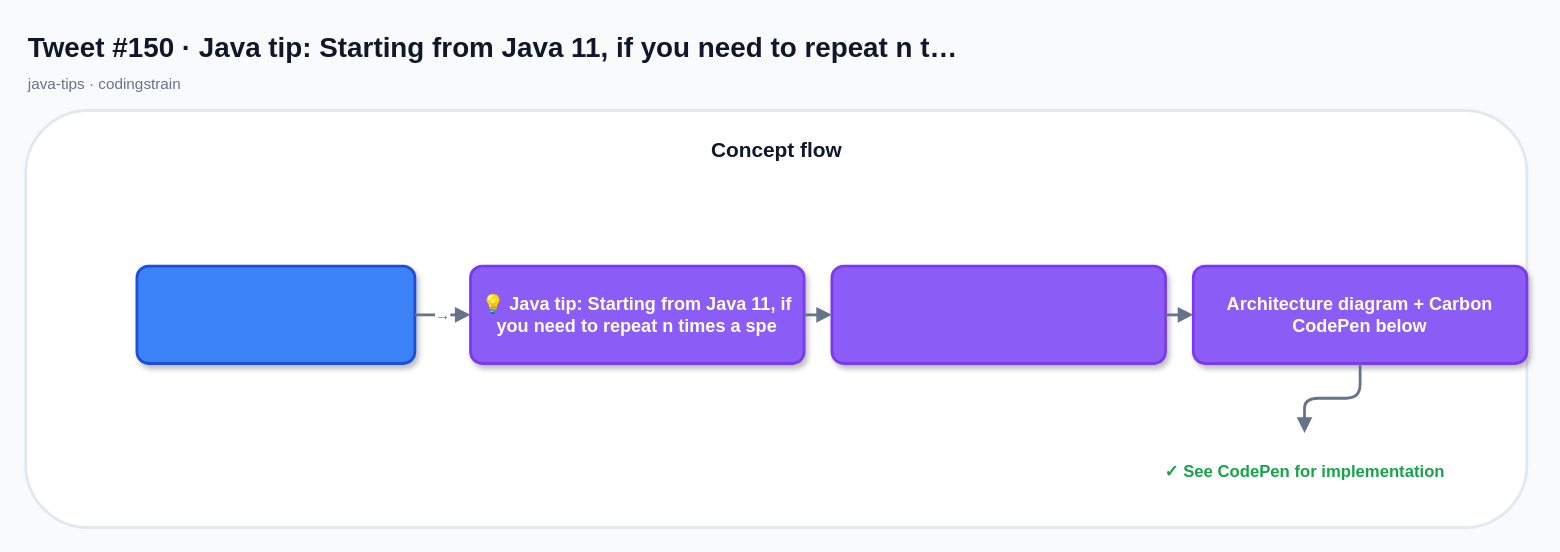
Image size: 1560x552. Some labels were removed from this diagram. The centre of each missing label's shape, as x and y in pixels:
Problem / context: (x=276, y=316)
Runnable sample: `java-tips`: (x=999, y=316)
